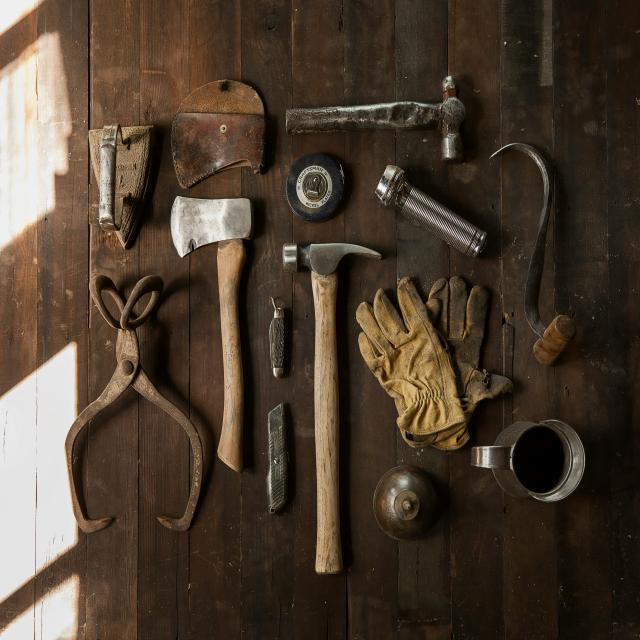Axe: (170, 196, 252, 471)
